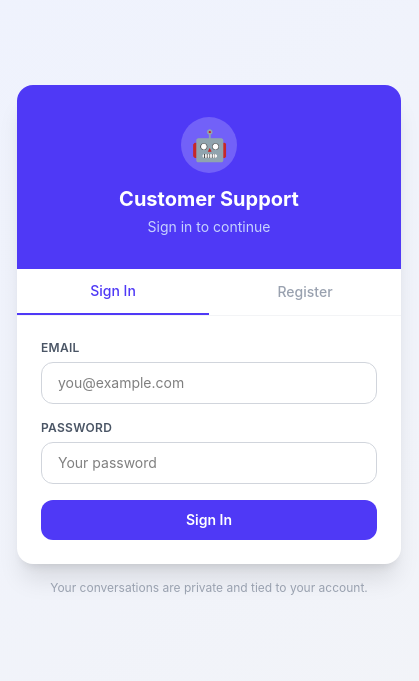
it: AuthForm › shows error when passwords don't match in register mode (Req 8.3)
The image size is (419, 681).
Click the button "Register" at (305, 292), box [209,268,401,314]
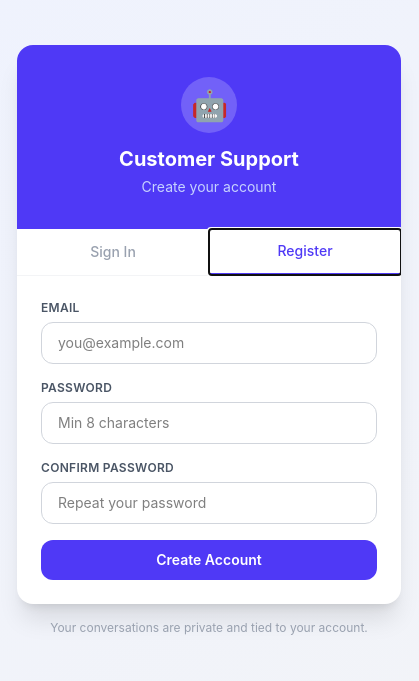
Type "user@example.com" into the field labelled "Email" at (209, 342), box [41,322,377,364]
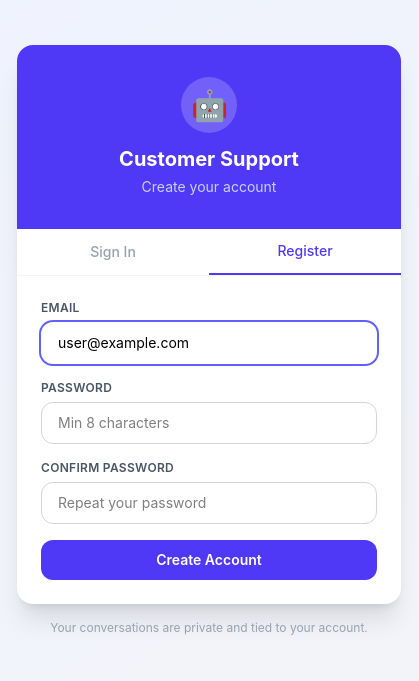
Type "password123" into the password field labelled "Password" at (209, 422), box [41,402,377,444]
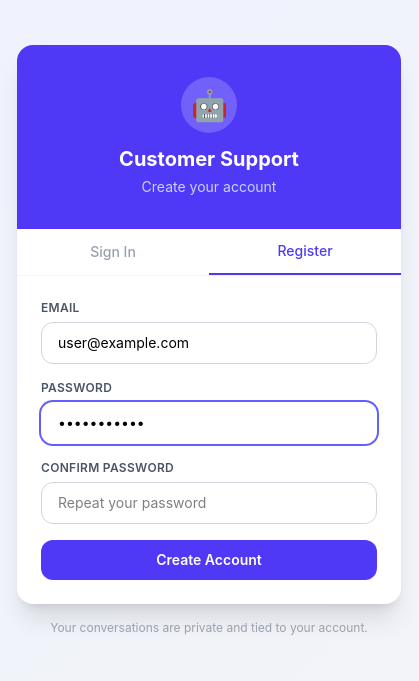
Type "different123" into the password field labelled "Confirm Password" at (209, 502), box [41,482,377,524]
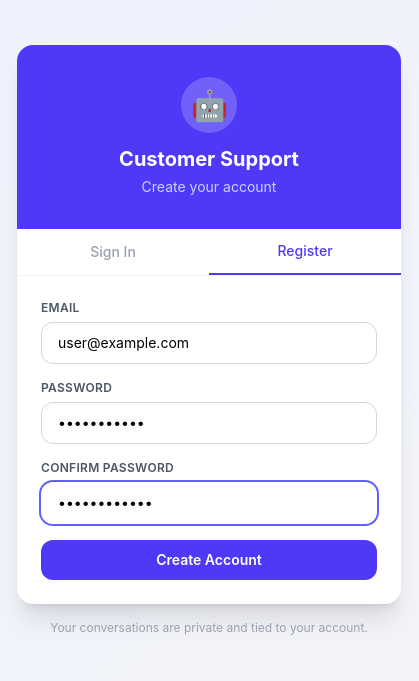
Click the button "Create Account" at (209, 560), box [41,540,377,580]
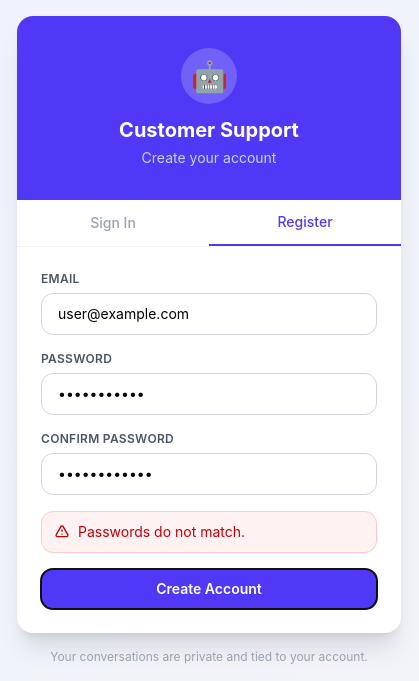
Result: the text "Passwords do not match." is shown at [41,510,377,552]
